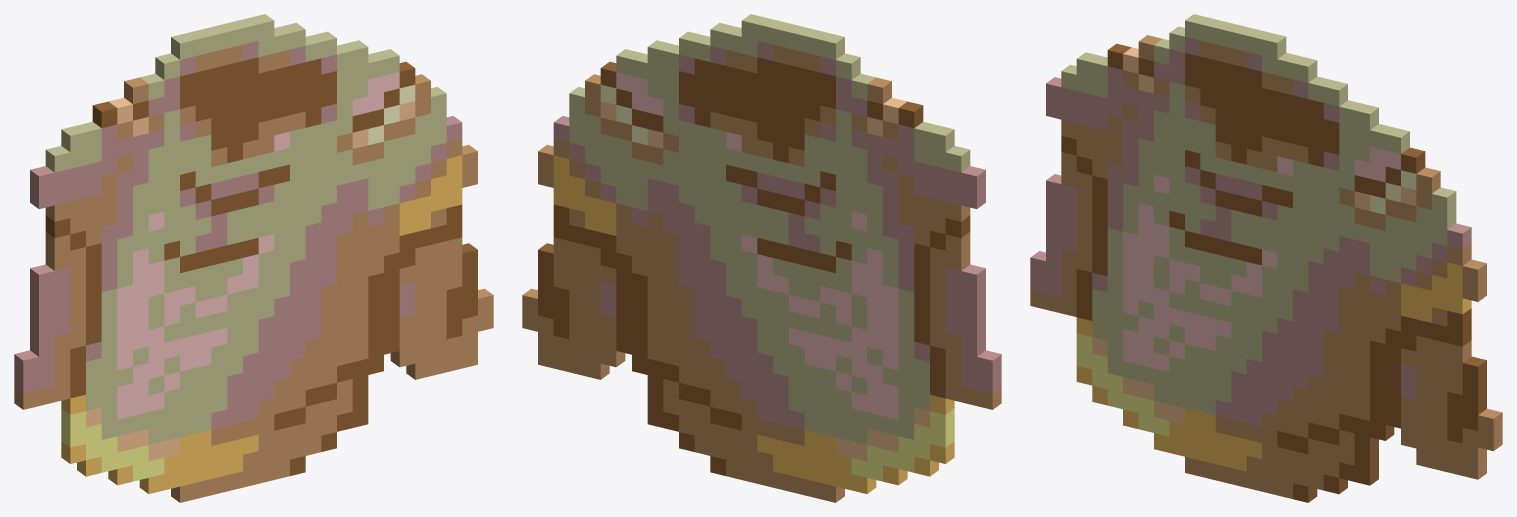
The model's file is A_Clothing02.fbx.
The picture shows the model from 3 angles, left to right: view 1: azimuth 30°, elevation 25°; view 2: azimuth 150°, elevation 25°; view 3: azimuth 330°, elevation 25°; orthographic projection.
Parts seen in each view (by area): view 1: Default; view 2: Default; view 3: Default.
Boxes of the visible parts, x1,y1,x2,y2 form: Default: (14,14,493,502); Default: (522,14,1001,502); Default: (1030,14,1502,502).
Size of the model in its own units: 30 by 28 by 1.
1 material, 1 textured.
